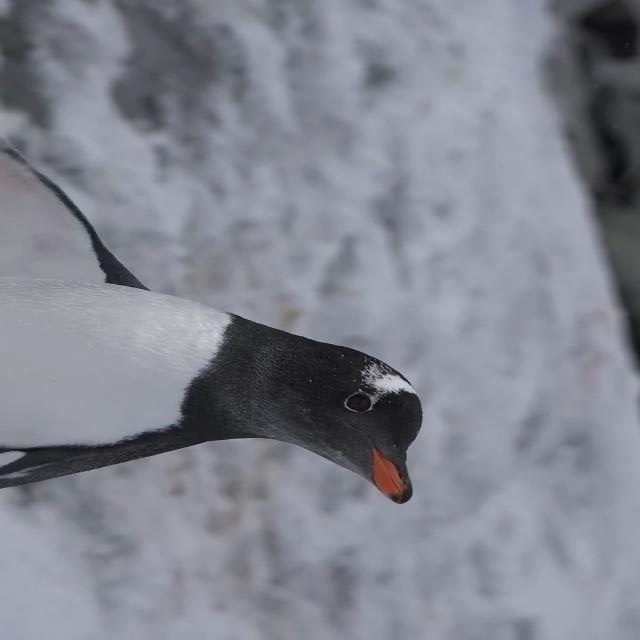penguin: (1, 131, 424, 499)
